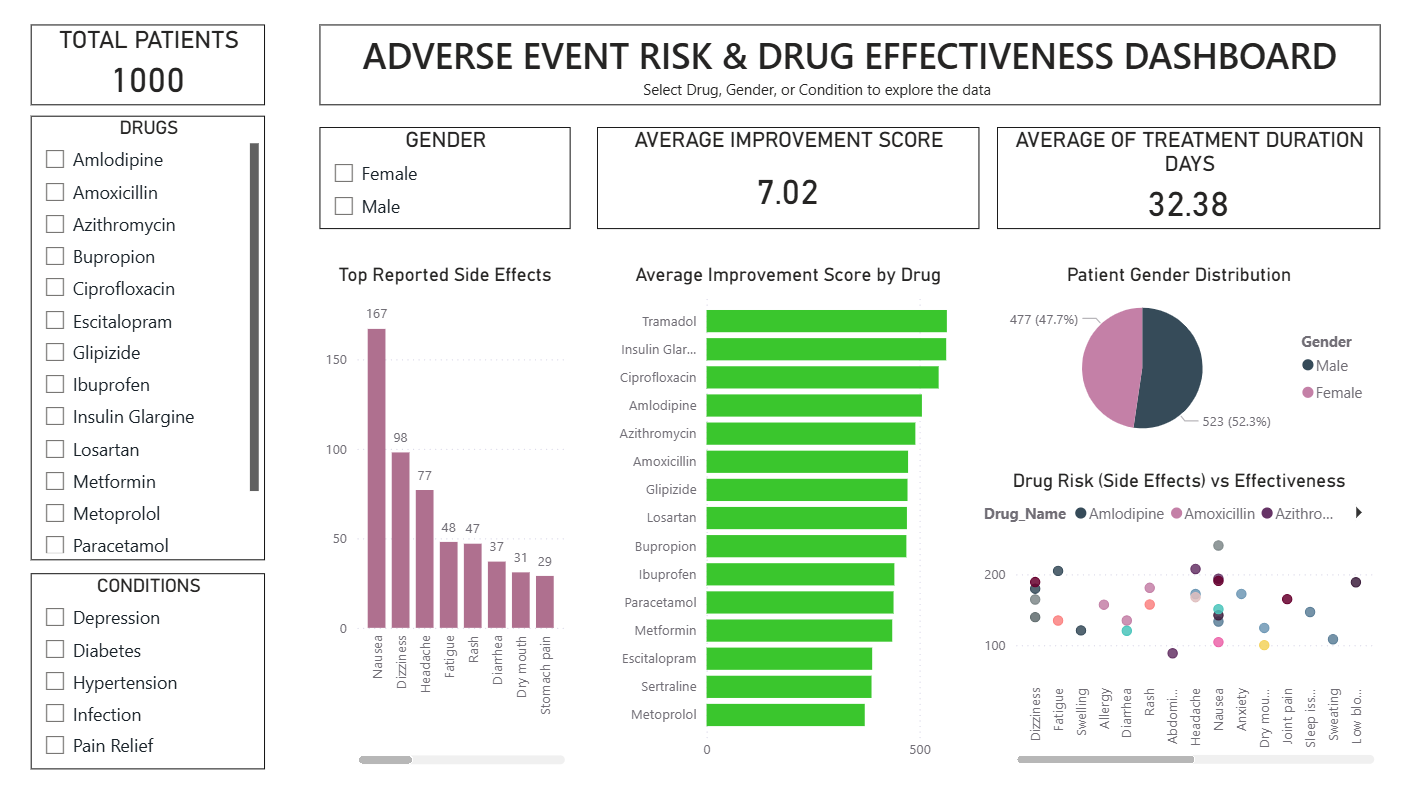

Layout of this report page (visuals, bound fields, positions):
{"tool":"powerbi","page":{"name":"Page 1","canvas":[1280,720],"ordinal":0},"visuals":[{"type":"card","title":"TOTAL PATIENTS","fields":{"Values":["CountNonNull(real_drug_dataset.Patient_ID)"]},"box":[30.2,28.8,211.3,72.7],"z":0},{"type":"card","title":"AVERAGE IMPROVEMENT SCORE","fields":{"Values":["Avg(real_drug_dataset.Improvement_Score)"]},"box":[540.7,122.1,344.4,91.9],"z":1000},{"type":"card","title":"AVERAGE OF TREATMENT DURATION DAYS","fields":{"Values":["Avg(real_drug_dataset.Treatment_Duration_days)"]},"box":[901.5,122.1,345.8,91.9],"z":2000},{"type":"slicer","title":"DRUGS","fields":{"Values":["real_drug_dataset.Drug_Name"]},"box":[30.2,111.1,211.3,400.7],"z":3000},{"type":"slicer","title":"CONDITIONS","fields":{"Values":["real_drug_dataset.Condition"]},"box":[30.2,524.2,211.3,177],"z":4000},{"type":"slicer","title":"GENDER","fields":{"Values":["real_drug_dataset.Gender"]},"box":[290.9,122.1,226.4,91.9],"z":5000},{"type":"textbox","box":[290.9,28.8,956.4,72.7],"z":6000},{"type":"pieChart","title":"Patient Gender Distribution","fields":{"Category":["real_drug_dataset.Gender"],"Y":["CountNonNull(real_drug_dataset.Patient_ID)"]},"box":[885.1,244.3,362.3,170.2],"z":7000},{"type":"clusteredColumnChart","title":"Top Reported Side Effects","fields":{"Category":["real_drug_dataset.Side_Effects"],"Y":["CountNonNull(real_drug_dataset.Patient_ID)"]},"box":[290.9,244.3,226.4,456.9],"z":8000},{"type":"clusteredBarChart","title":"Average Improvement Score by Drug","fields":{"Category":["real_drug_dataset.Drug_Name"],"Y":["Sum(real_drug_dataset.Improvement_Score)"]},"box":[540.7,244.3,344.4,456.9],"z":8001},{"type":"scatterChart","title":"Drug Risk (Side Effects) vs Effectiveness","fields":{"Series":["real_drug_dataset.Drug_Name"],"Y":["Sum(real_drug_dataset.Improvement_Score)"],"X":["real_drug_dataset.Side_Effects"]},"box":[885.1,430.9,362.3,270.3],"z":8002},{"type":"textbox","box":[555.7,72.7,367.8,28.8],"z":8003}]}

Visuals, with their boxes in screenshot pixels (x1, y1, x2, y2), scaled from the page's 1280x720 canvas onto the 1412x787 screenshot:
"TOTAL PATIENTS" card: (33,31,266,111)
"AVERAGE IMPROVEMENT SCORE" card: (596,133,976,234)
"AVERAGE OF TREATMENT DURATION DAYS" card: (994,133,1376,234)
"DRUGS" slicer: (33,121,266,559)
"CONDITIONS" slicer: (33,573,266,766)
"GENDER" slicer: (321,133,571,234)
textbox: (321,31,1376,111)
"Patient Gender Distribution" pieChart: (976,267,1376,453)
"Top Reported Side Effects" clusteredColumnChart: (321,267,571,766)
"Average Improvement Score by Drug" clusteredBarChart: (596,267,976,766)
"Drug Risk (Side Effects) vs Effectiveness" scatterChart: (976,471,1376,766)
textbox: (613,79,1019,111)
